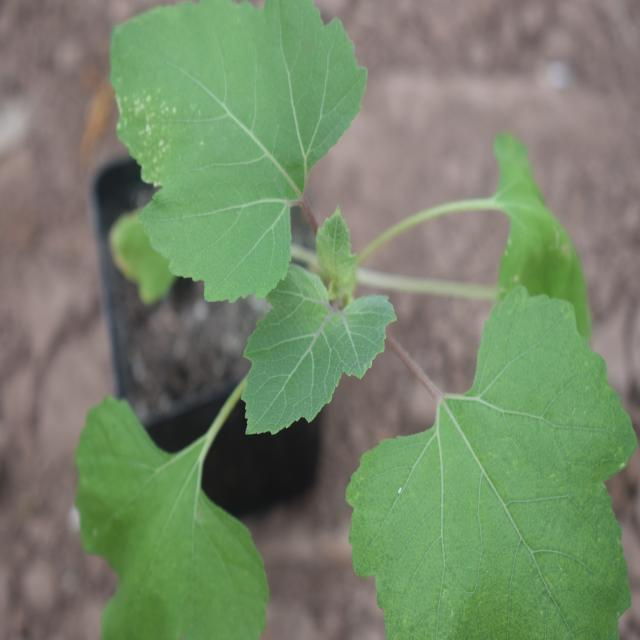cocklebur: (104, 4, 624, 627)
